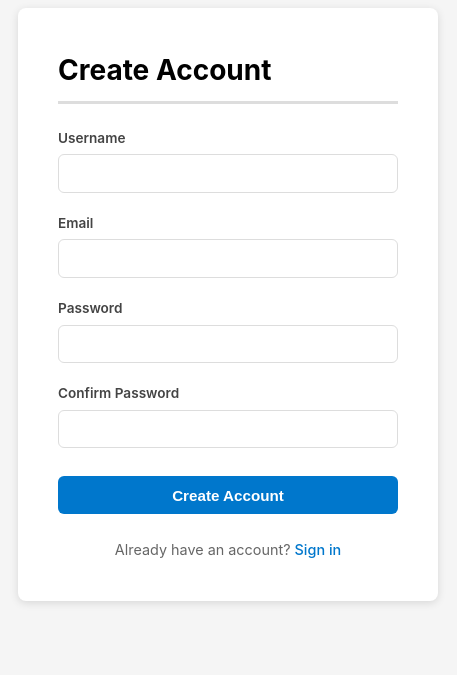
Test: RegisterPage › shows per-field errors returned from the API
Type "existing" into the field labelled "Username" at x=228, y=174, box [58, 154, 398, 193]
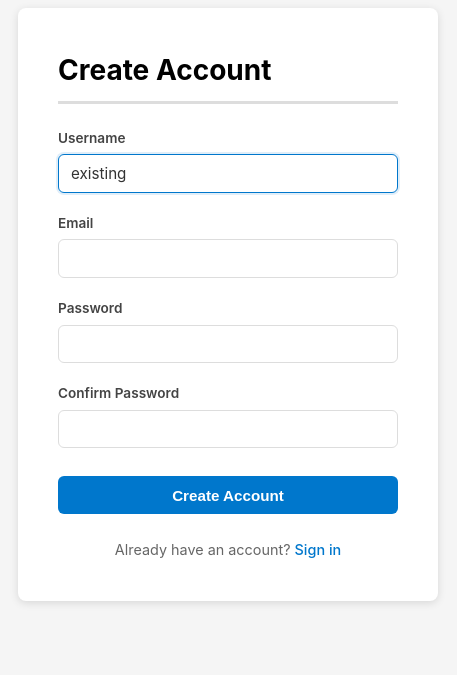
Type "alice@example.com" into the field labelled "Email" at x=228, y=259, box [58, 240, 398, 278]
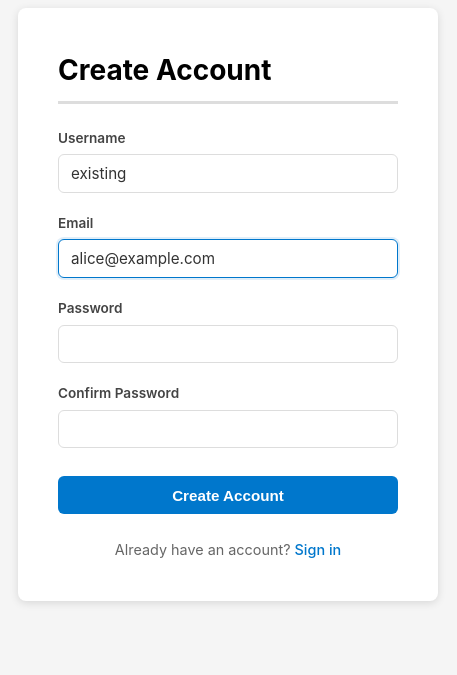
Type "StrongPass123!" into the password field labelled "Password" at x=228, y=344, box [58, 325, 398, 363]
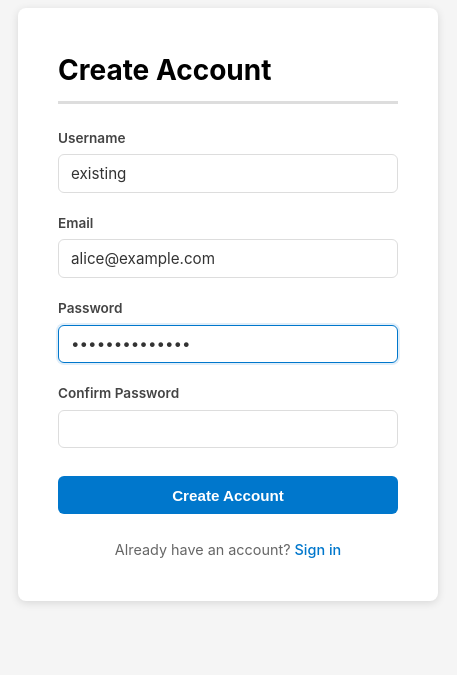
Type "StrongPass123!" into the password field labelled "Confirm Password" at x=228, y=429, box [58, 410, 398, 448]
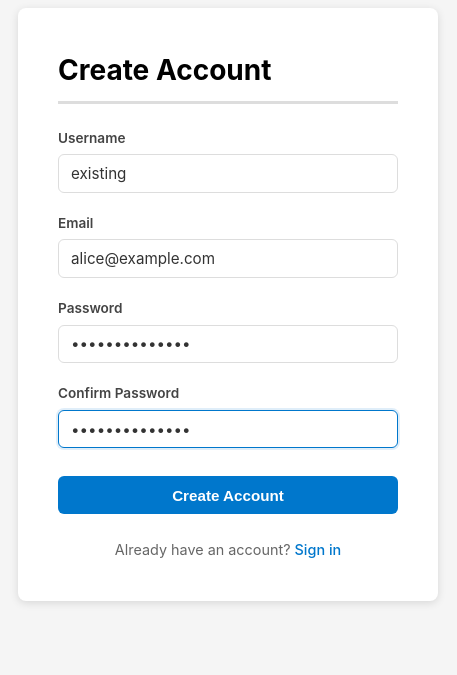
Click the button "Create Account" at x=228, y=495, box [58, 476, 398, 514]
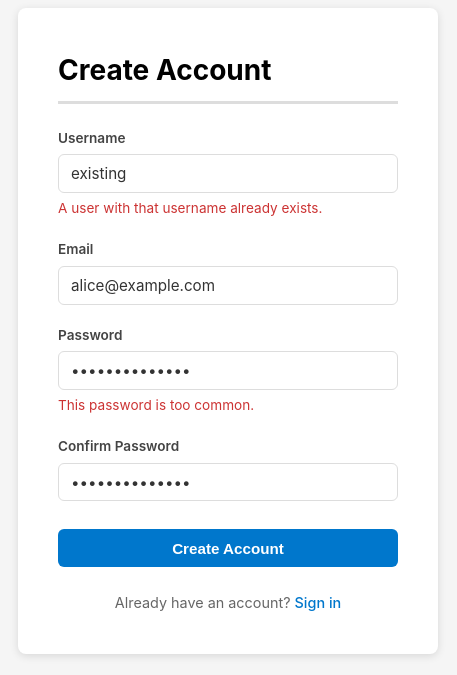
Now the text "A user with that username already exists." is shown, box [58, 200, 322, 216]
Now the text "This password is too common." is shown, box [58, 397, 254, 413]
